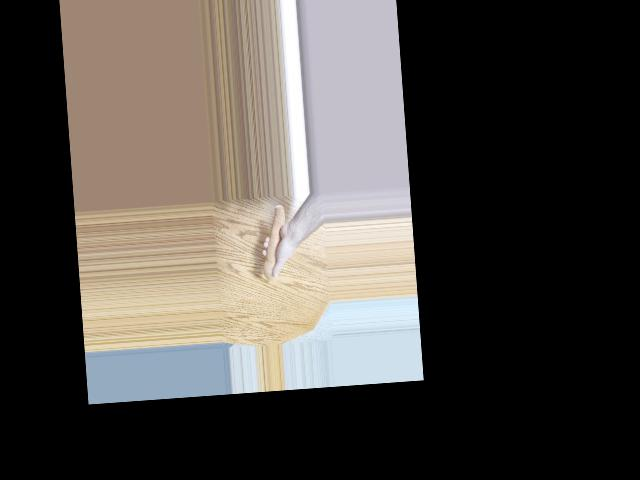sweet_potato: (258, 203, 290, 280)
